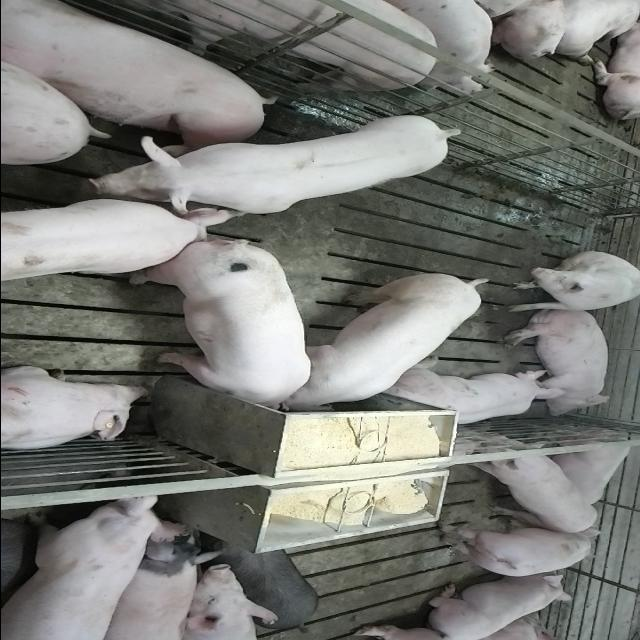Feeding: (129, 244, 311, 420), (280, 268, 497, 411)
Lateral_lying: (502, 307, 614, 417)
Sitting: (503, 252, 639, 314)
Standing: (0, 0, 444, 94), (114, 113, 456, 219), (0, 498, 182, 640), (2, 197, 232, 287), (91, 530, 225, 637), (467, 442, 595, 534), (426, 522, 606, 580), (210, 540, 320, 634)
Sternal_lying: (0, 365, 150, 453), (382, 364, 564, 431), (424, 573, 574, 637), (544, 428, 636, 508)
